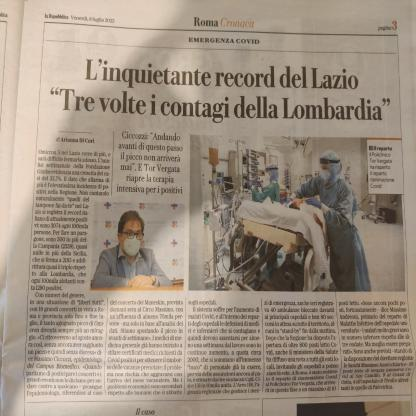immagine: (188, 134, 406, 294), (92, 199, 185, 293)
testo_col: (23, 142, 112, 401), (336, 296, 416, 400), (106, 298, 186, 401), (185, 297, 262, 403), (262, 298, 338, 400)
titolo: (45, 47, 394, 132)
